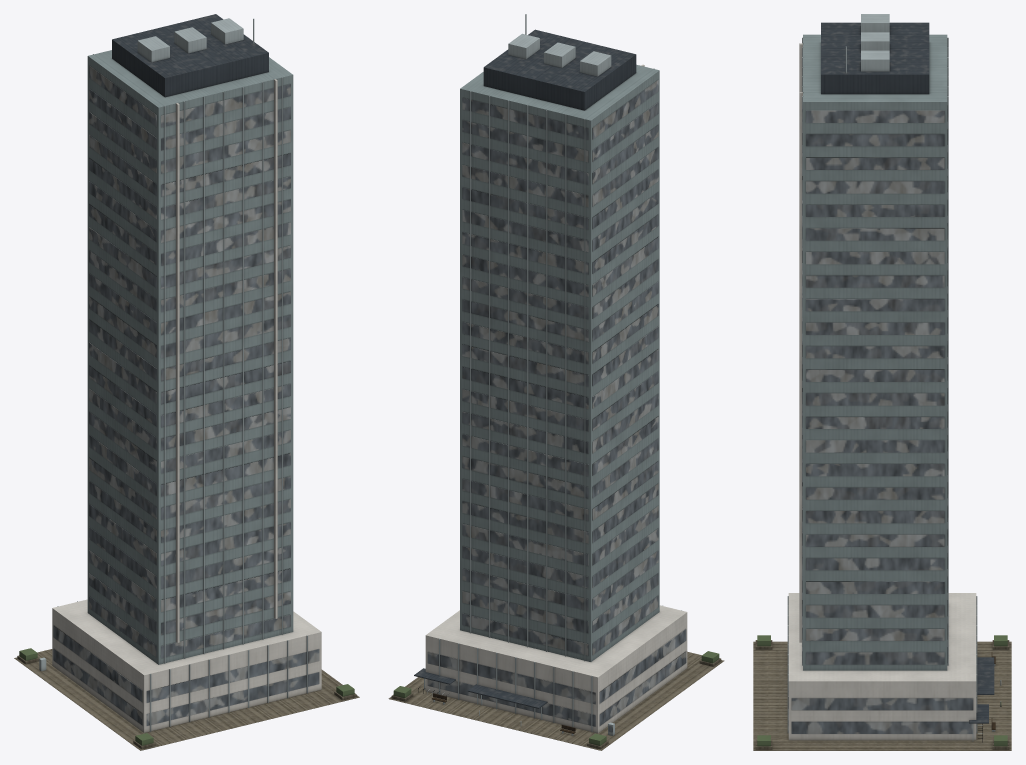
Rendered from office_tower_001.obj.
3 views of the same model, side by side, from view 1: azimuth 30°, elevation 25°; view 2: azimuth 150°, elevation 25°; view 3: azimuth 270°, elevation 25° (orthographic). The views are drawn at different scales.
Visible parts, largest first — view 1: office_tower_001; view 2: office_tower_001; view 3: office_tower_001.
Part boxes in pixels (x1,y1,x2,y2): office_tower_001: (14, 14, 359, 750); office_tower_001: (388, 14, 724, 750); office_tower_001: (753, 14, 1011, 750).
Size of the model in its own units: 35.8 by 103 by 35.8.
Materials: 1 (1 with a texture image).
